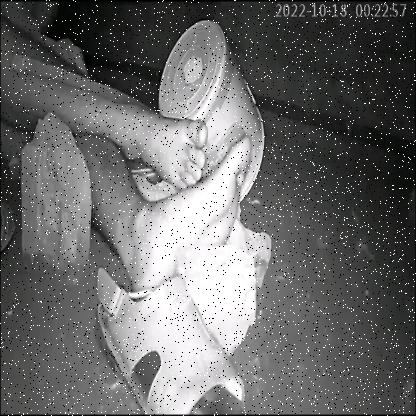leg: (0, 25, 213, 199), (82, 124, 263, 301)
